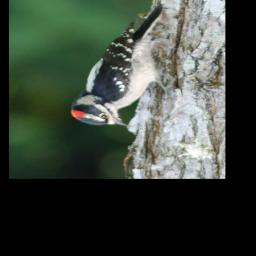Woodpecker: (67, 1, 172, 130)
